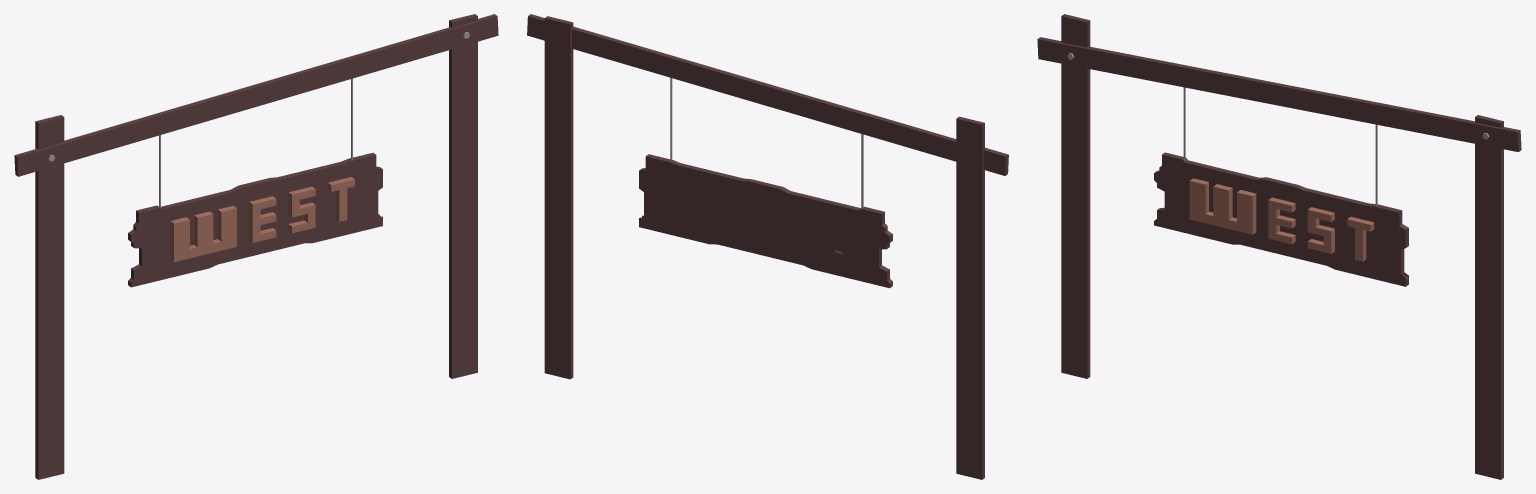
Rendered from west_sign.fbx.
3 views of the same model, side by side, from view 1: azimuth 30°, elevation 25°; view 2: azimuth 150°, elevation 25°; view 3: azimuth 330°, elevation 25° (orthographic).
Visible parts, largest first — view 1: pCube5, pCube4, pCube1, pCube2; view 2: pCube5, pCube2, pCube1, pCube4; view 3: pCube5, pCube4, pCube1, pCube2.
Boxes of the visible parts, box(x1,y1,x2,y2) form: pCube5: box(128, 152, 382, 287); pCube4: box(14, 14, 498, 176); pCube1: box(35, 115, 64, 479); pCube2: box(449, 14, 477, 378); pCube5: box(639, 154, 892, 288); pCube2: box(544, 16, 573, 379); pCube1: box(956, 116, 984, 479); pCube4: box(527, 14, 1008, 175); pCube5: box(1154, 152, 1408, 286); pCube4: box(1037, 37, 1521, 151); pCube1: box(1061, 14, 1090, 378); pCube2: box(1475, 115, 1503, 479).
Bounding box in the file's own units: 6.92 × 4.9 × 0.1665.
